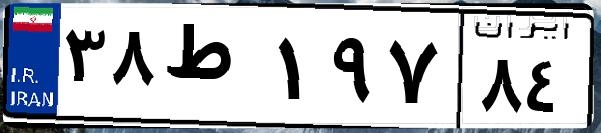1: (270, 28, 330, 110)
3: (57, 26, 110, 100)
4: (525, 38, 570, 115)
7: (385, 28, 445, 110)
8: (475, 38, 525, 113), (110, 28, 158, 98)
9: (330, 28, 385, 110)
ط: (158, 20, 270, 120)
